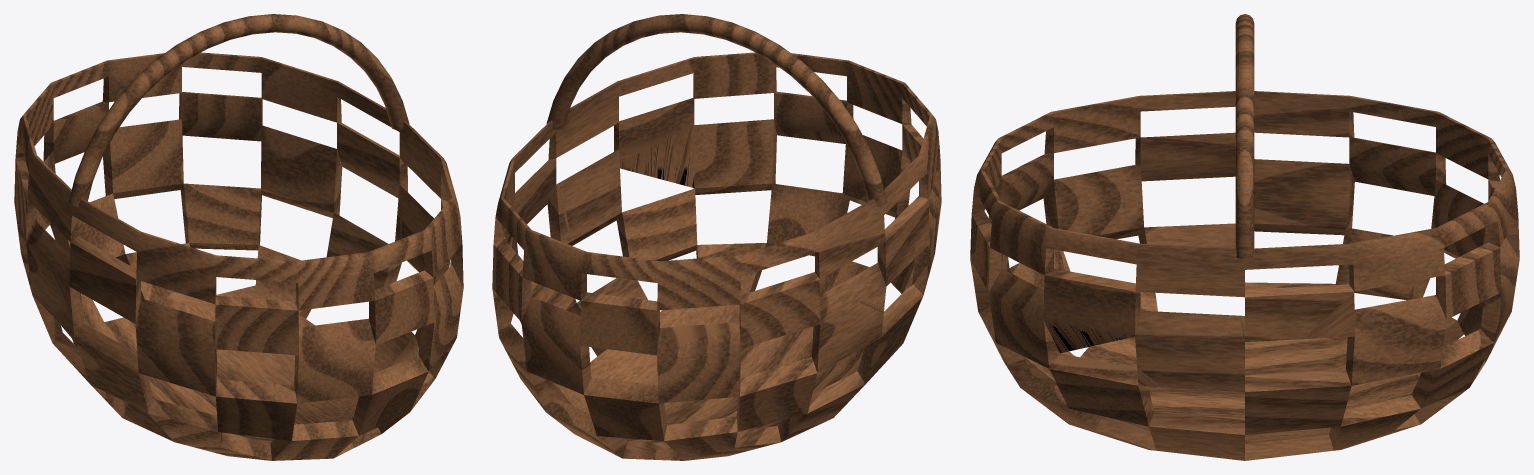
File: cart.gltf
3 renders of one model, left to right at view 1: azimuth 30°, elevation 25°; view 2: azimuth 150°, elevation 25°; view 3: azimuth 270°, elevation 25°, orthographic.
Visible parts, largest first — view 1: Panier.1; view 2: Panier.1; view 3: Panier.1.
Boxes of the visible parts, x1,y1,x2,y2 form: Panier.1: [14, 14, 463, 460]; Panier.1: [492, 14, 941, 460]; Panier.1: [970, 14, 1519, 460].
Size of the model in its own units: 41.66 by 47.36 by 58.32.
1 material, 1 textured.
